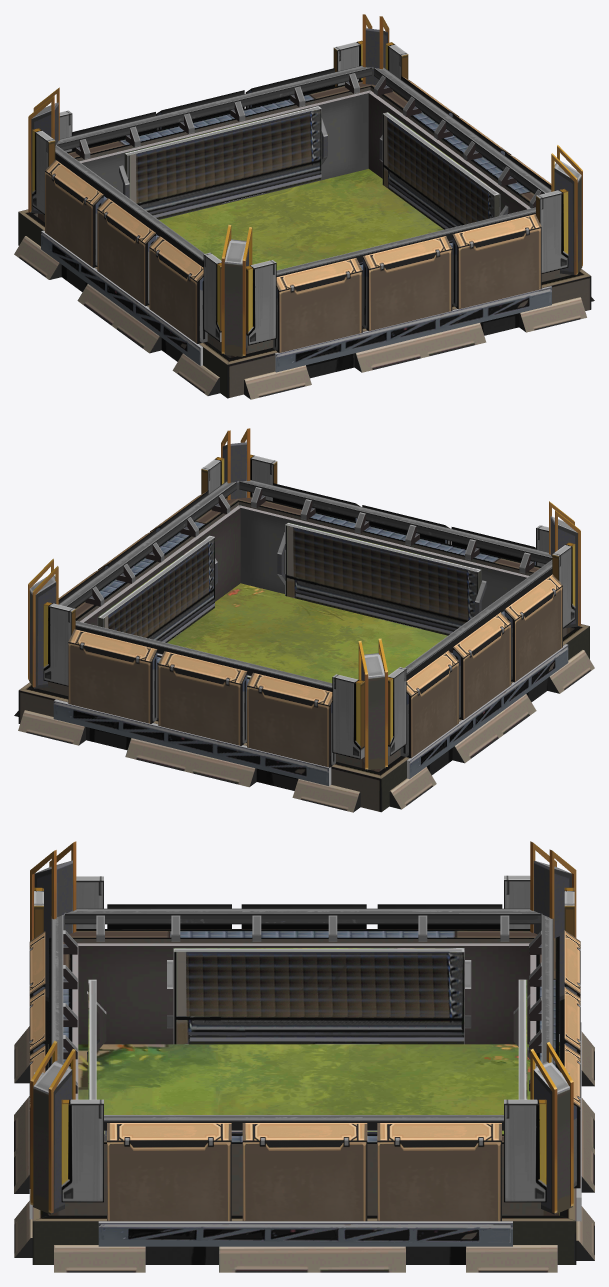
The model's file is trap_487_xblfen.fbx.
3 views of the same model, one above another, from view 1: azimuth 30°, elevation 25°; view 2: azimuth 150°, elevation 25°; view 3: azimuth 270°, elevation 25° (orthographic). The views are drawn at different scales.
Parts seen in each view (by area): view 1: trap_487_xblfen 1, grass; view 2: trap_487_xblfen 1, grass; view 3: trap_487_xblfen 1, grass.
Boxes of the visible parts, x1,y1,x2,y2 form: trap_487_xblfen 1: (14, 14, 594, 399); grass: (159, 169, 443, 270); trap_487_xblfen 1: (14, 428, 594, 812); grass: (167, 583, 447, 682); trap_487_xblfen 1: (14, 841, 594, 1272); grass: (78, 1042, 559, 1215).
Bounding box in the file's own units: 3.12 × 1.21 × 3.11.
1 material, 1 textured.
